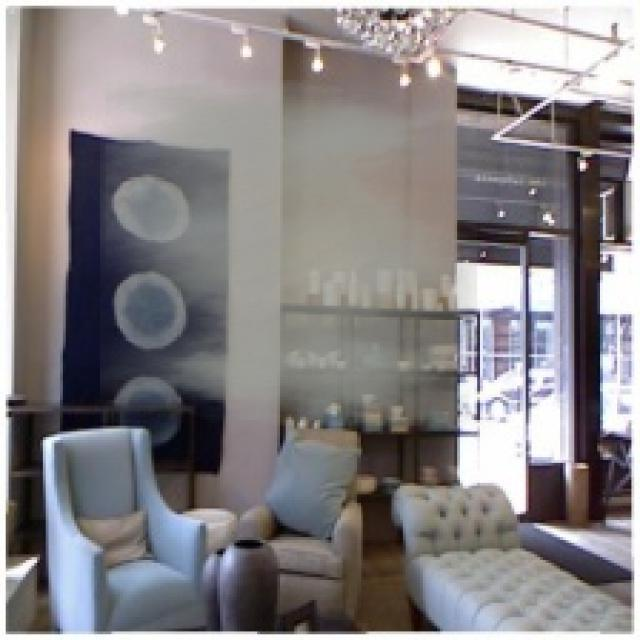Smoke: (100, 80, 477, 426)
